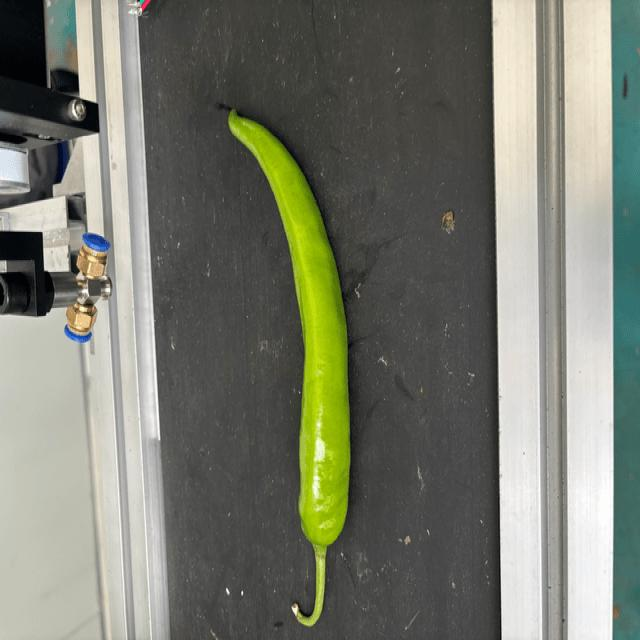chili: (227, 106, 352, 550)
